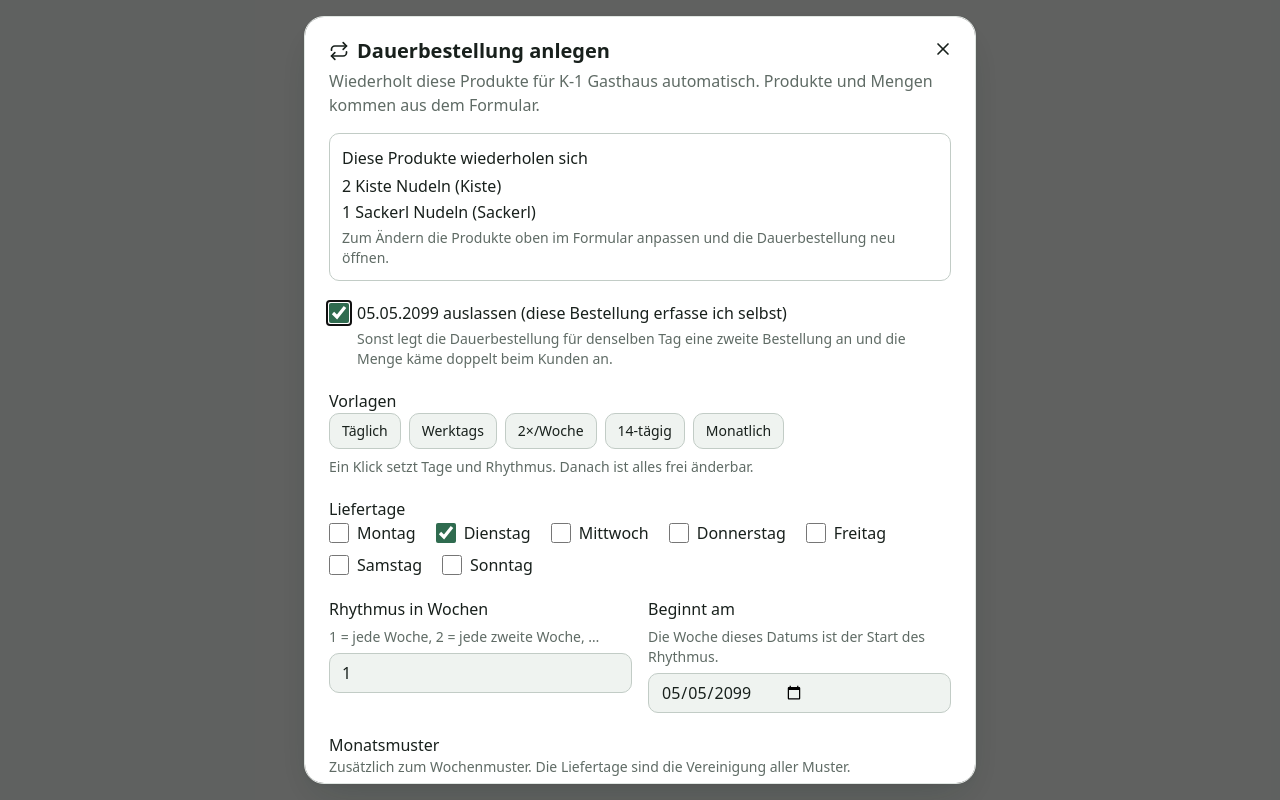
Test: OrderRecurringDialog (NUD-166, NUD-171) › sets days and rhythm with the preset chips (and stays freely editable)
Click the button with test id "order-recurring-preset-daily".
click(365, 431)  # box top-left (329, 413), bottom-right (401, 449)
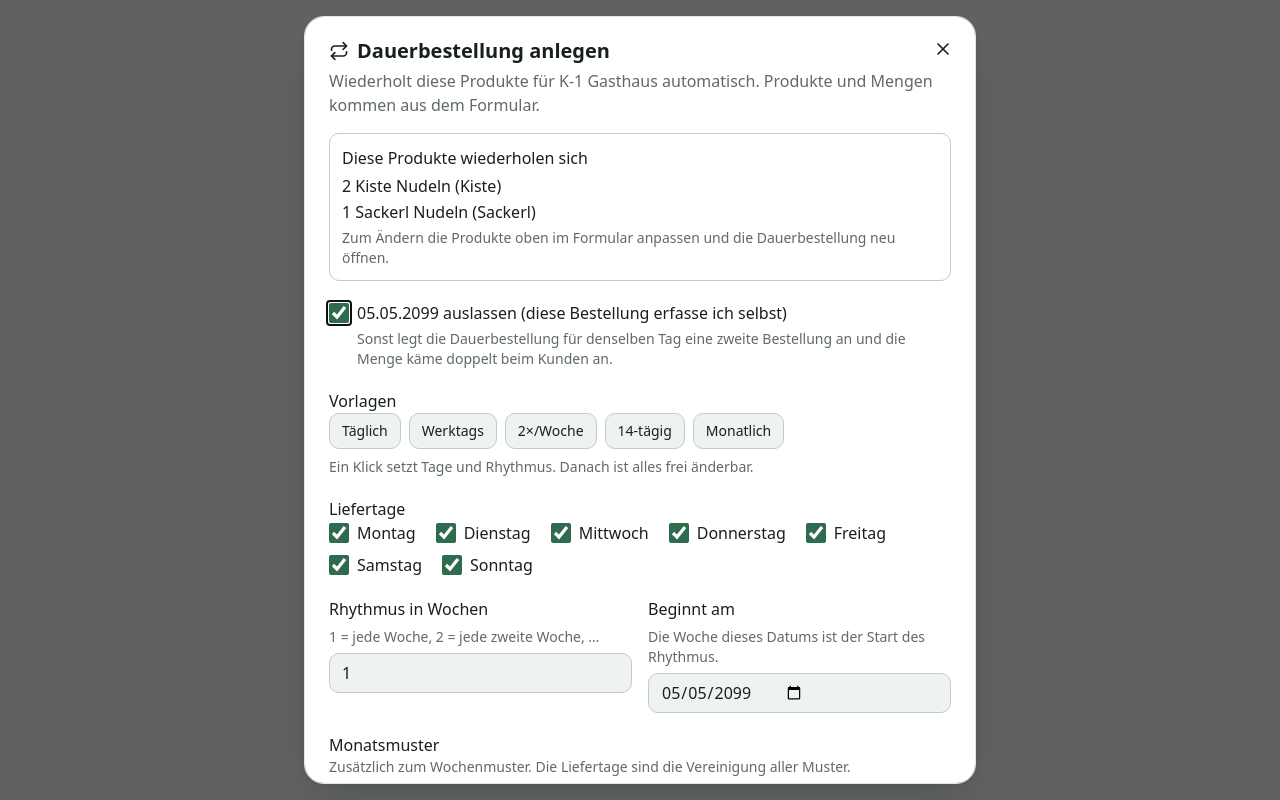
Now the checkbox with test id "order-recurring-weekday-1" is checked, box top-left (329, 523), bottom-right (349, 543)
Now the checkbox with test id "order-recurring-weekday-3" is checked, box top-left (551, 523), bottom-right (571, 543)
Now the checkbox with test id "order-recurring-weekday-4" is checked, box top-left (669, 523), bottom-right (689, 543)
Click the button with test id "order-recurring-preset-biweekly".
click(645, 431)  # box top-left (605, 413), bottom-right (685, 449)
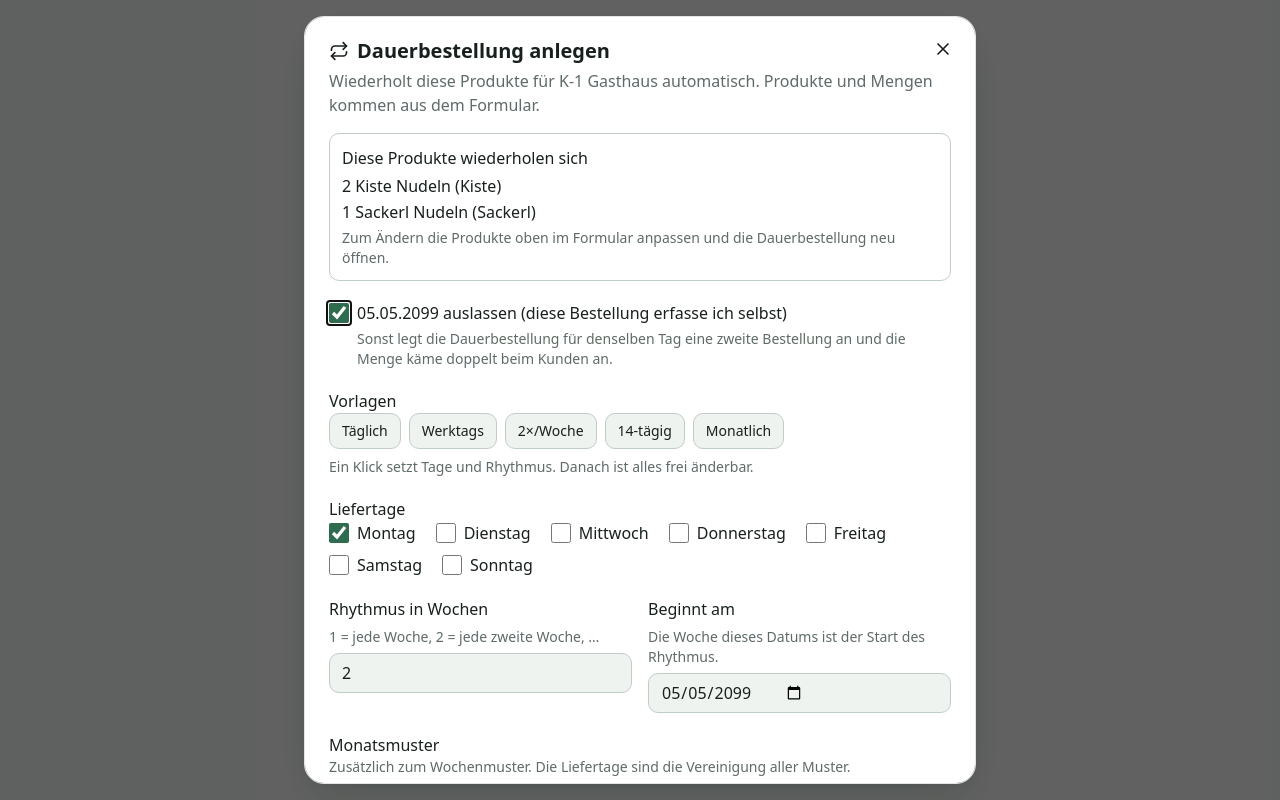
Now the checkbox with test id "order-recurring-weekday-1" is checked, box top-left (329, 523), bottom-right (349, 543)
Now the checkbox with test id "order-recurring-weekday-2" is not checked, box top-left (436, 523), bottom-right (456, 543)
Now the number field with test id "order-recurring-every" holds "2", box top-left (329, 653), bottom-right (632, 693)
# No mode: the days stay editable after a preset.
Click the checkbox with test id "order-recurring-weekday-3".
click(561, 533)  # box top-left (551, 523), bottom-right (571, 543)
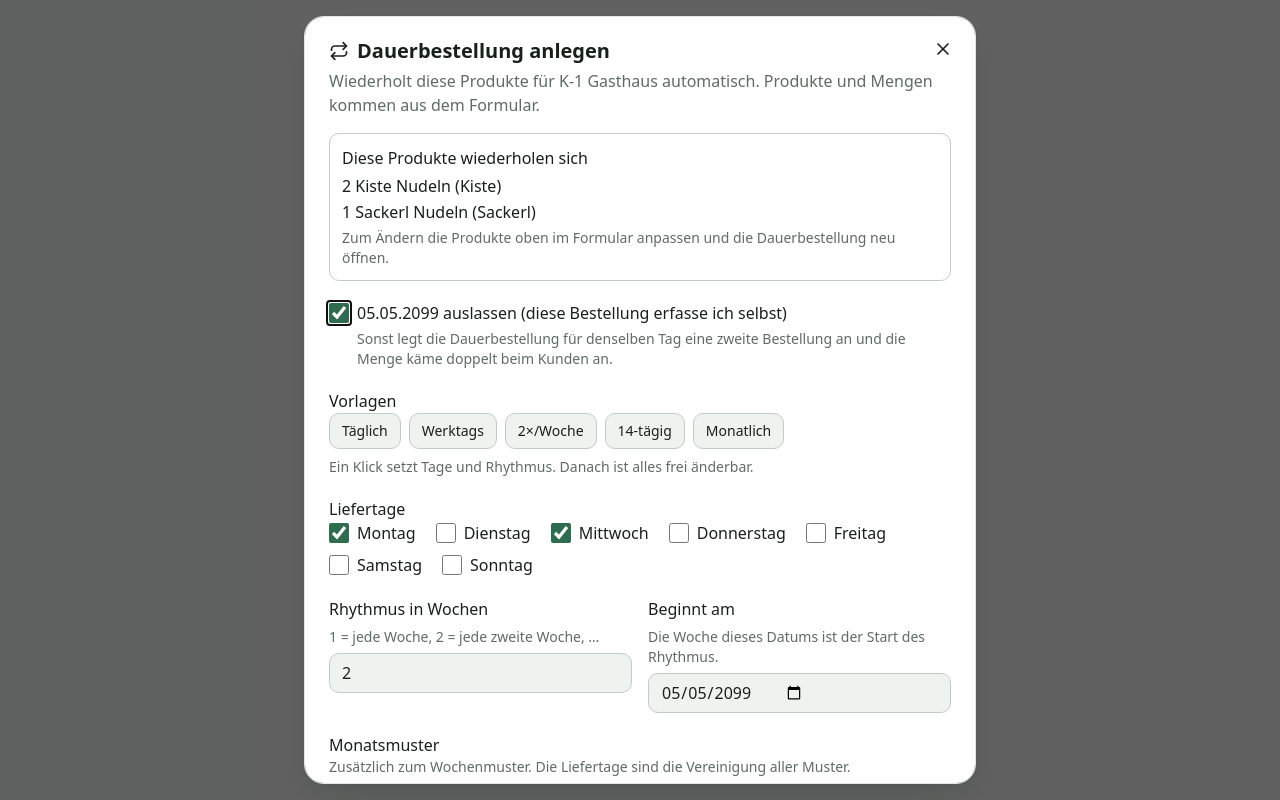
Now the checkbox with test id "order-recurring-weekday-3" is checked, box top-left (551, 523), bottom-right (571, 543)
